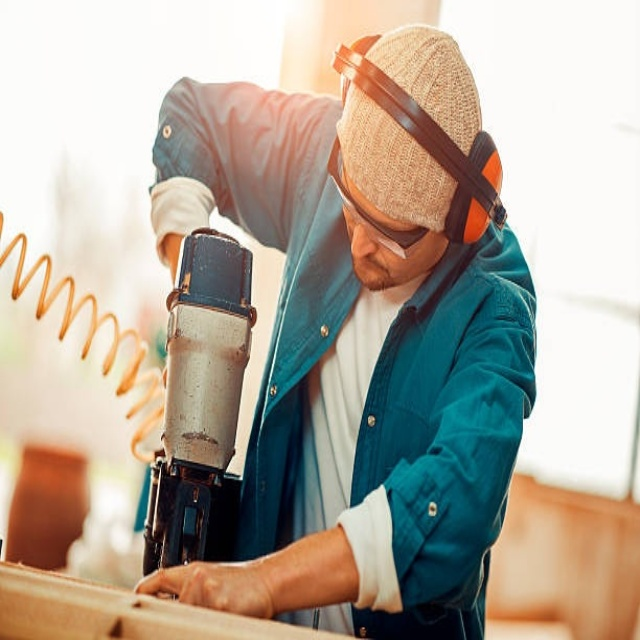Gafas: (325, 132, 430, 259)
Sin_guantes: (133, 555, 269, 619)
Sin_mascara: (348, 240, 396, 292)
